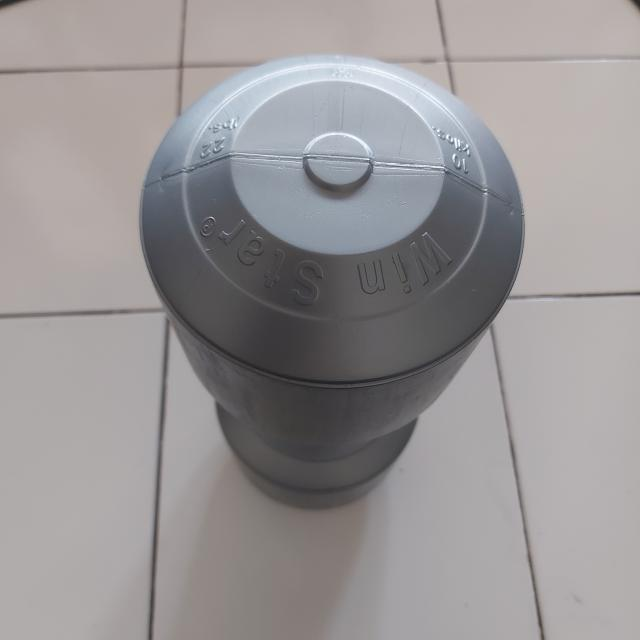Anorganik: (136, 52, 530, 517)
